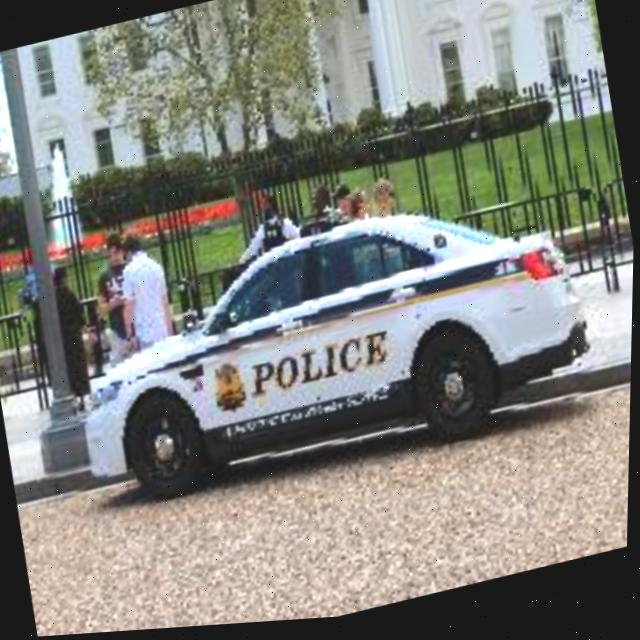emergency: (46, 178, 623, 547)
